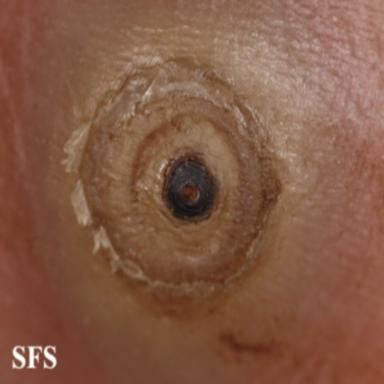Tungiasis: (62, 51, 283, 317)
